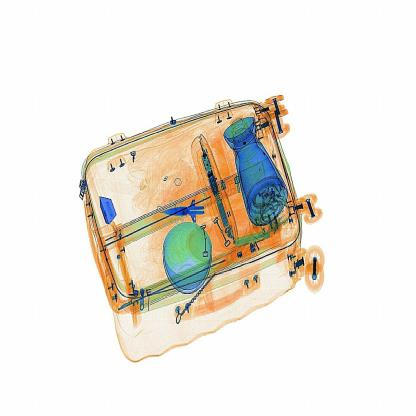gun: (158, 169, 218, 229)
